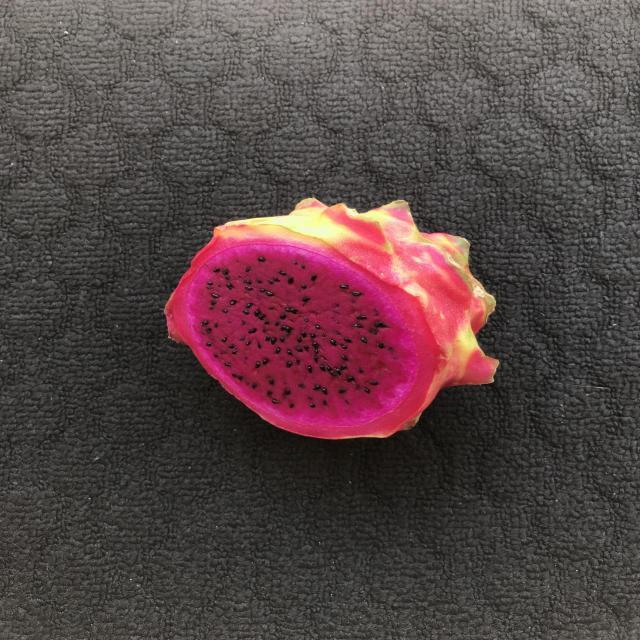dragon-fruit: (170, 211, 488, 441)
